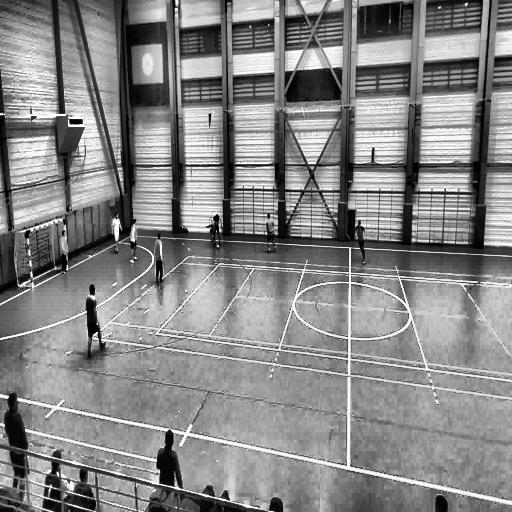ball: (216, 244, 220, 249)
player: (4, 395, 30, 501), (155, 430, 184, 508), (86, 282, 105, 359), (264, 210, 278, 250), (154, 232, 164, 284), (112, 212, 124, 254), (354, 219, 365, 263), (60, 228, 69, 272), (130, 218, 138, 264)
